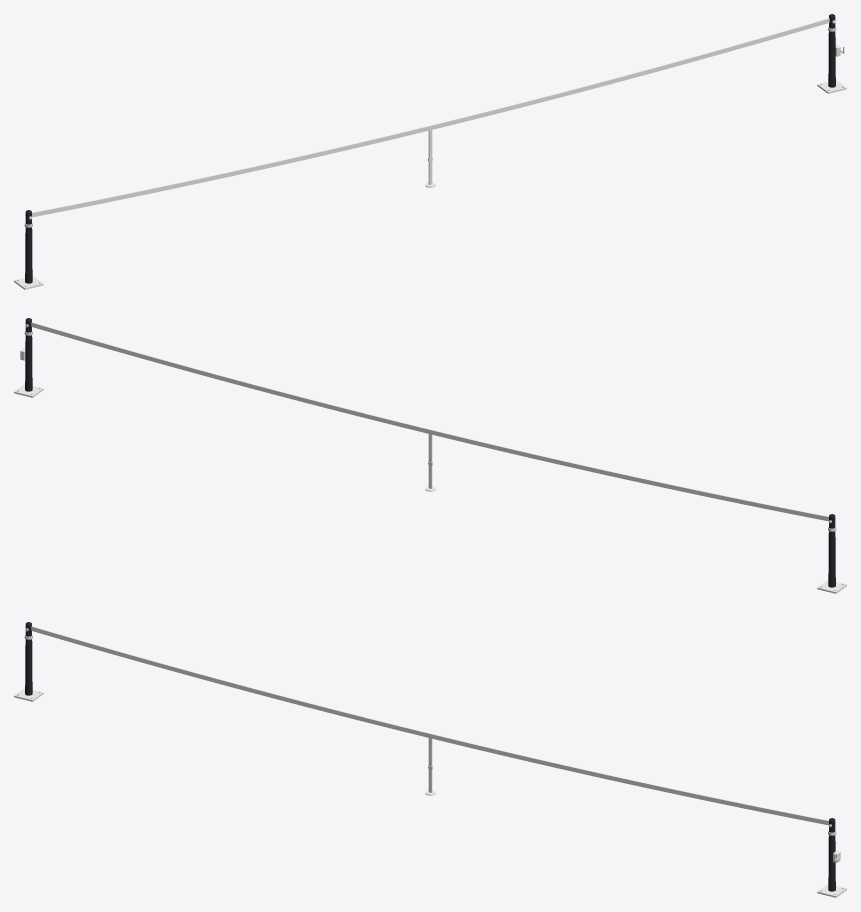
Rendered from Postes.obj.
The picture shows the model from 3 angles, top to bottom: view 1: azimuth 30°, elevation 25°; view 2: azimuth 150°, elevation 25°; view 3: azimuth 330°, elevation 25°; orthographic projection.
Visible parts, largest first — view 1: Postes; view 2: Postes; view 3: Postes.
Part boxes in pixels (<box>): Postes: <box>14,14,846,289</box>; Postes: <box>14,318,846,593</box>; Postes: <box>14,622,846,897</box>.
Bounding box in the file's own units: 13.1 × 1.11 × 0.3.
Materials: 1 (1 with a texture image).
